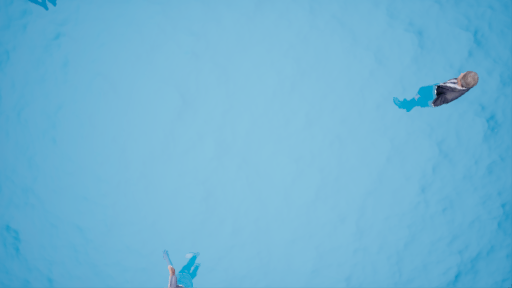person: (391, 63, 478, 111), (156, 244, 204, 288)
